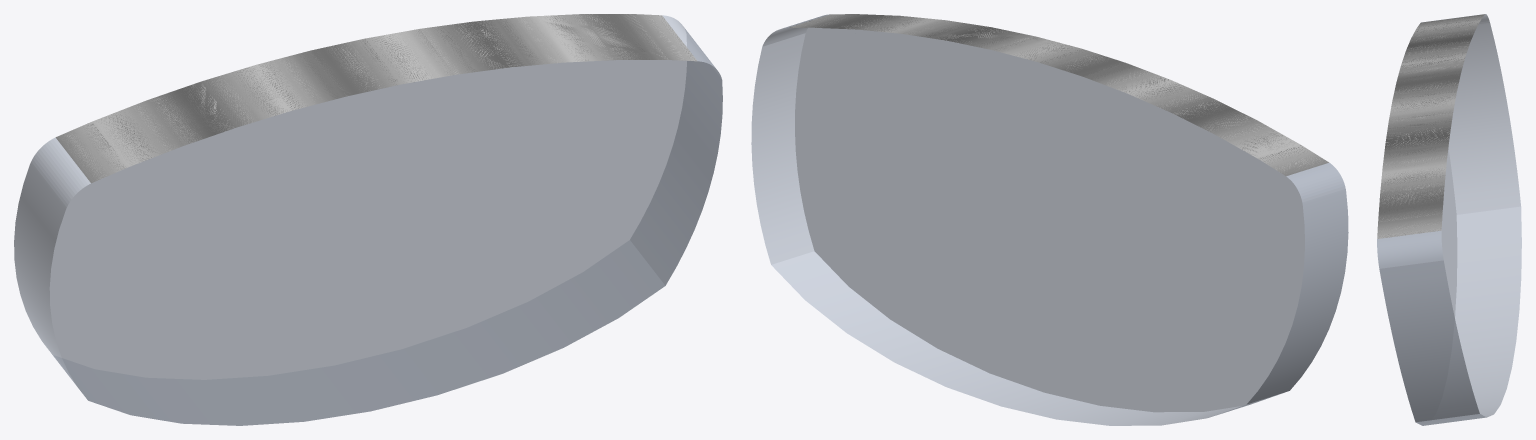
The model's file is original-2.obj.
3 renders of one model, left to right at view 1: azimuth 30°, elevation 25°; view 2: azimuth 150°, elevation 25°; view 3: azimuth 270°, elevation 25°, orthographic. The views are drawn at different scales.
Parts seen in each view (by area): view 1: Group3/mesh2/mesh2-geometry#mesh2-geometry; view 2: Group3/mesh2/mesh2-geometry#mesh2-geometry; view 3: Group3/mesh2/mesh2-geometry#mesh2-geometry.
Part boxes in pixels (x1=…): Group3/mesh2/mesh2-geometry#mesh2-geometry: x1=14, y1=14, x2=722, y2=425; Group3/mesh2/mesh2-geometry#mesh2-geometry: x1=751, y1=14, x2=1348, y2=425; Group3/mesh2/mesh2-geometry#mesh2-geometry: x1=1377, y1=14, x2=1521, y2=425.
Bounding box in the file's own units: 0.3986 × 0.2177 × 0.1006.
2 materials, 1 textured.
